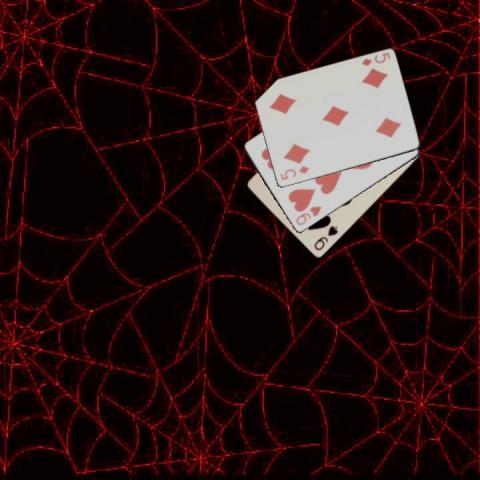5d: (277, 164, 311, 182), (359, 50, 391, 68)
9h: (292, 204, 322, 228)
9s: (311, 223, 339, 252)
